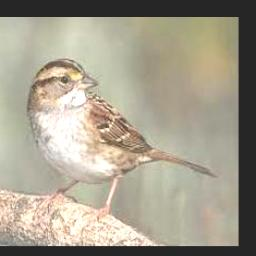Sparrow: (27, 59, 219, 222)
